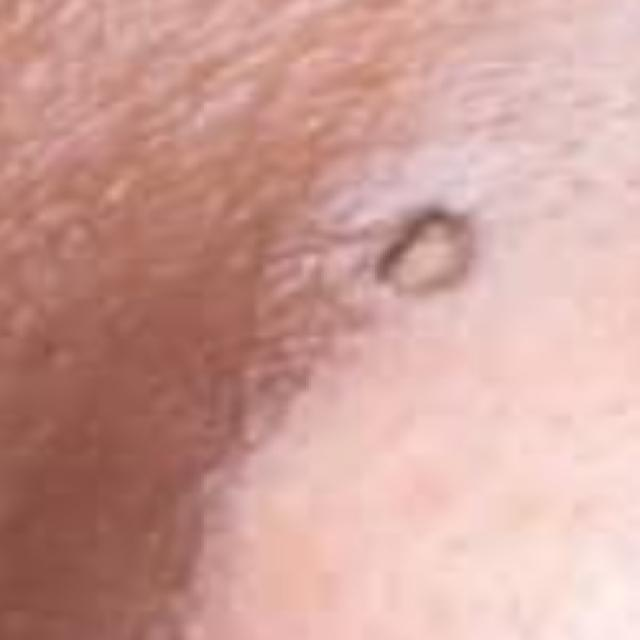blackhead: (380, 213, 470, 294)
